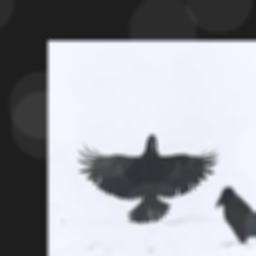Crow: (76, 133, 217, 223), (215, 185, 256, 243)
